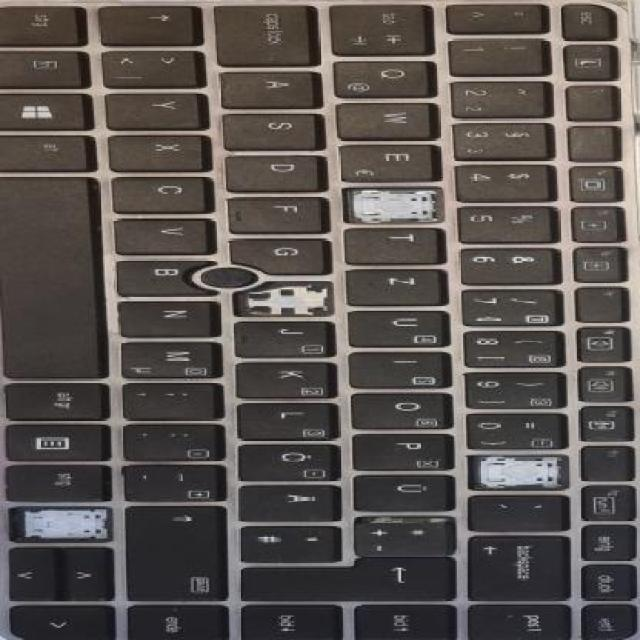Keyboard problems: (469, 455, 568, 488), (345, 189, 442, 222), (14, 508, 111, 540), (237, 283, 331, 315)
